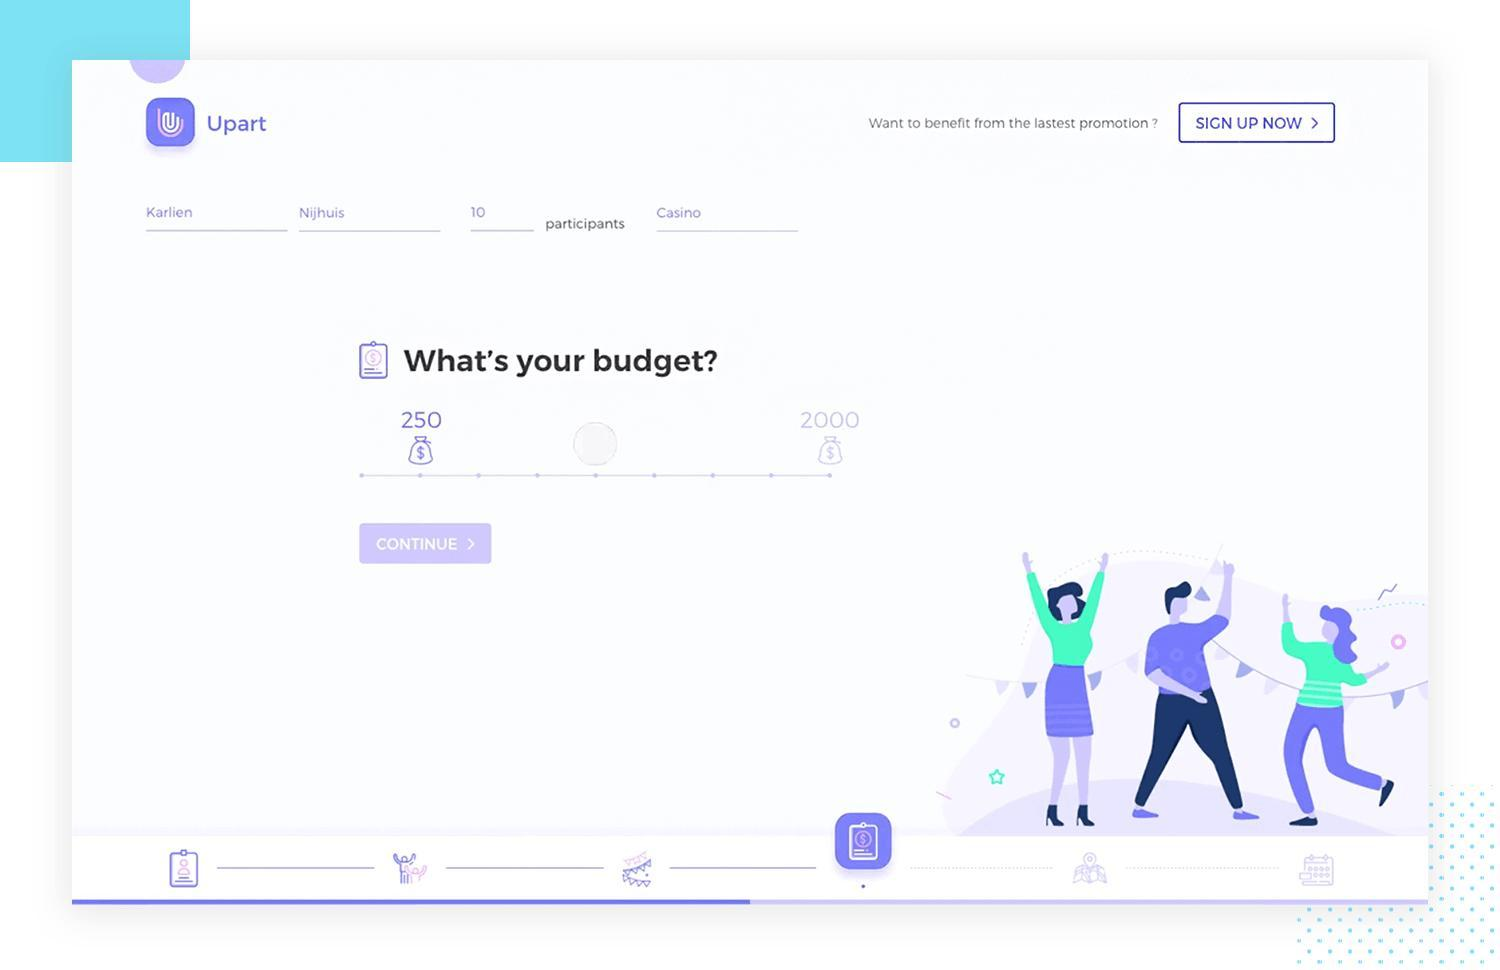button: (1177, 102, 1340, 142), (359, 523, 494, 566)
label: (402, 348, 725, 376), (867, 117, 1161, 130), (208, 115, 270, 137), (544, 219, 629, 234), (291, 204, 355, 220), (655, 207, 705, 220), (143, 207, 195, 218), (471, 204, 488, 221)
